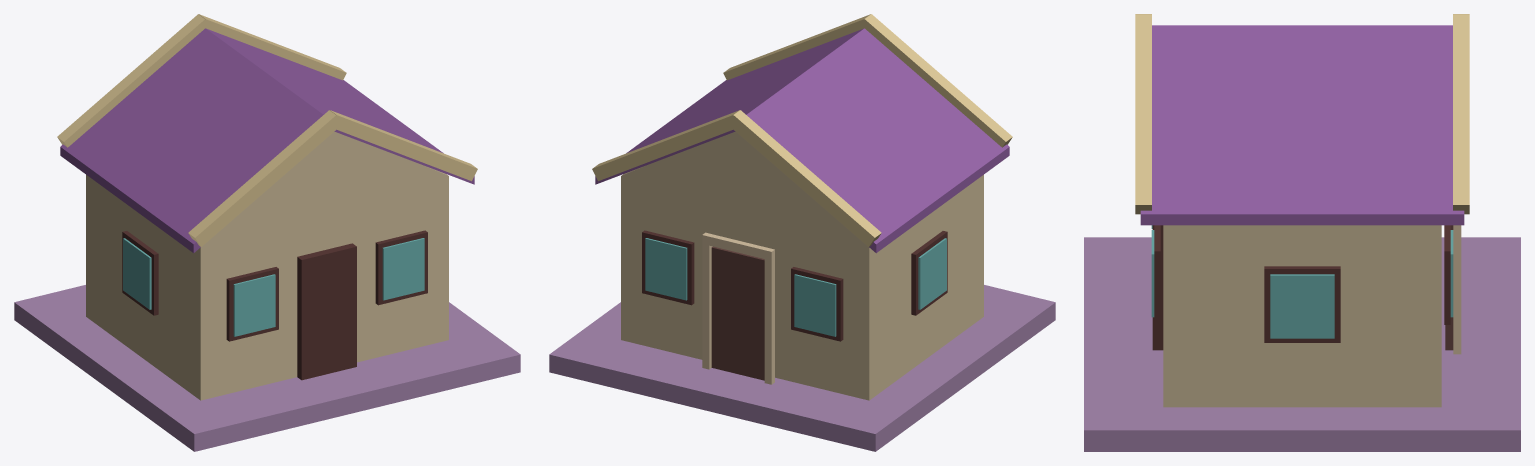
File: Candyland_GingerbreadHouse_Simple.glb
The picture shows the model from 3 angles, left to right: view 1: azimuth 30°, elevation 25°; view 2: azimuth 150°, elevation 25°; view 3: azimuth 270°, elevation 25°; orthographic projection. The views are drawn at different scales.
Visible parts, largest first — view 1: Candyland_GingerbreadHouse_Simple; view 2: Candyland_GingerbreadHouse_Simple; view 3: Candyland_GingerbreadHouse_Simple.
Part boxes in pixels (left/top/right/bottom): Candyland_GingerbreadHouse_Simple: left=14, top=14, right=520, bottom=451; Candyland_GingerbreadHouse_Simple: left=549, top=14, right=1055, bottom=451; Candyland_GingerbreadHouse_Simple: left=1084, top=14, right=1520, bottom=451.
Bounding box in the file's own units: 4.6 × 3.79 × 4.4.
